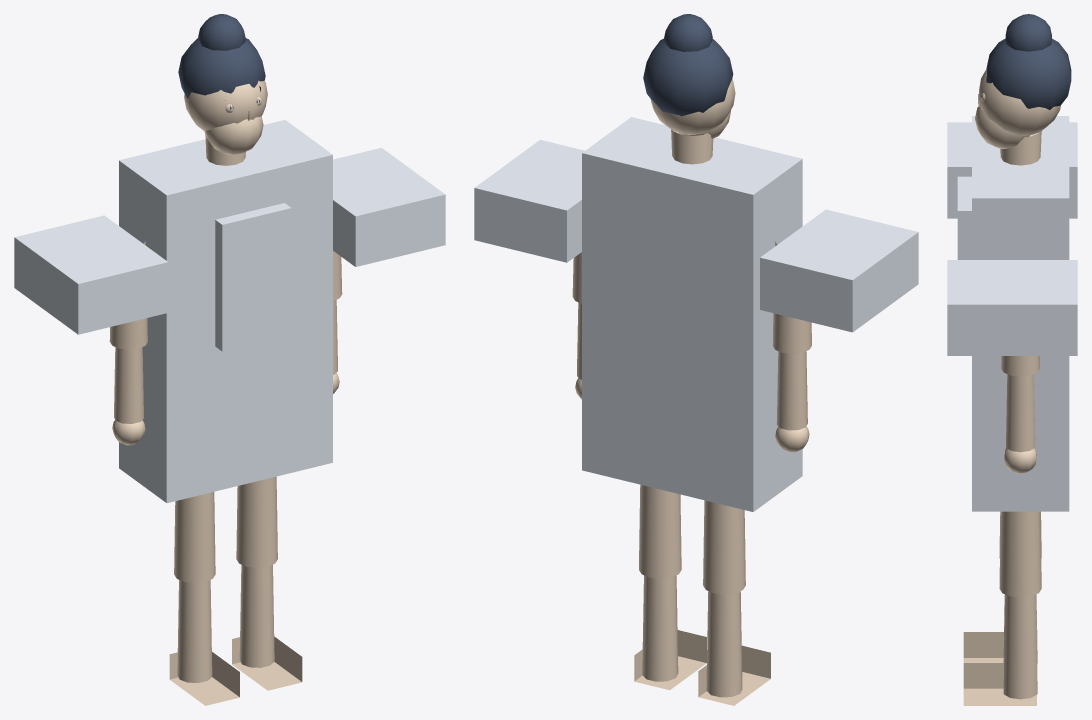
The model's file is body.glb.
3 views of the same model, side by side, from view 1: azimuth 30°, elevation 25°; view 2: azimuth 150°, elevation 25°; view 3: azimuth 270°, elevation 25° (orthographic). The views are drawn at different scales.
Visible parts, largest first — view 1: Cloth, Skin, Hair; view 2: Cloth, Skin, Hair; view 3: Cloth, Skin, Hair.
Part boxes in pixels (<box>): Cloth: <box>14,120,445,503</box>; Skin: <box>109,80,342,705</box>; Hair: <box>178,14,265,100</box>; Cloth: <box>474,117,918,511</box>; Skin: <box>572,79,811,705</box>; Hair: <box>643,14,733,116</box>; Cloth: <box>947,116,1077,511</box>; Skin: <box>963,68,1060,705</box>; Hair: <box>986,14,1071,109</box>.
Size of the model in its own units: 1.06 by 1.81 by 0.32.
